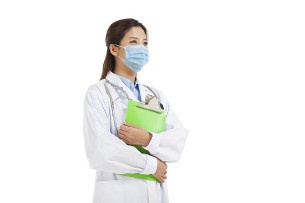Mask: (118, 36, 156, 73)
